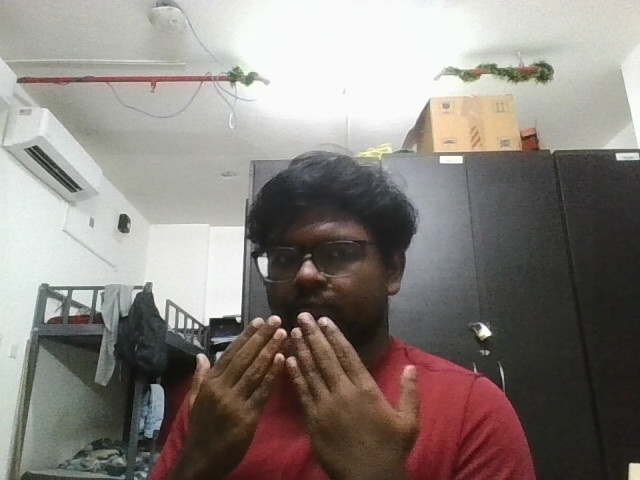Thanks: (173, 303, 428, 480)
